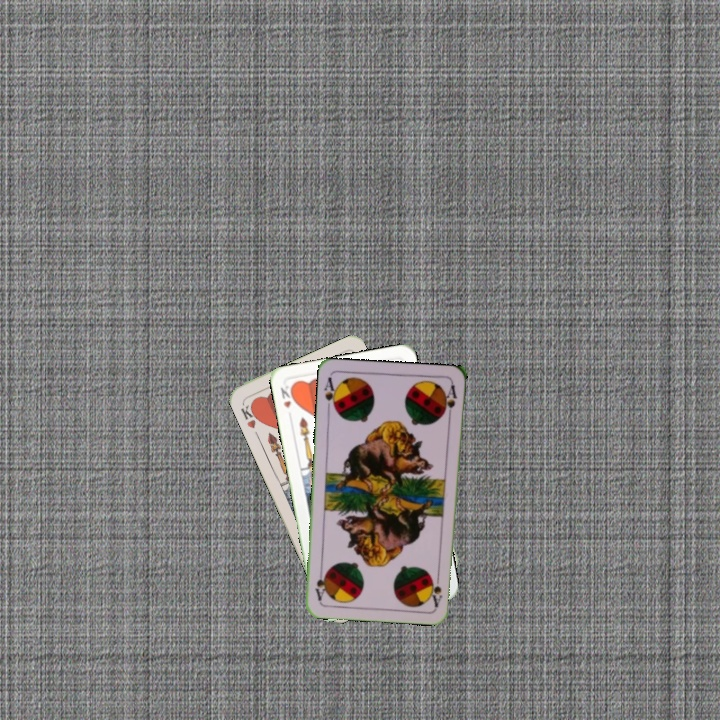HK: (237, 399, 262, 431), (276, 382, 293, 411)
SA: (320, 373, 340, 414), (429, 568, 445, 609)
